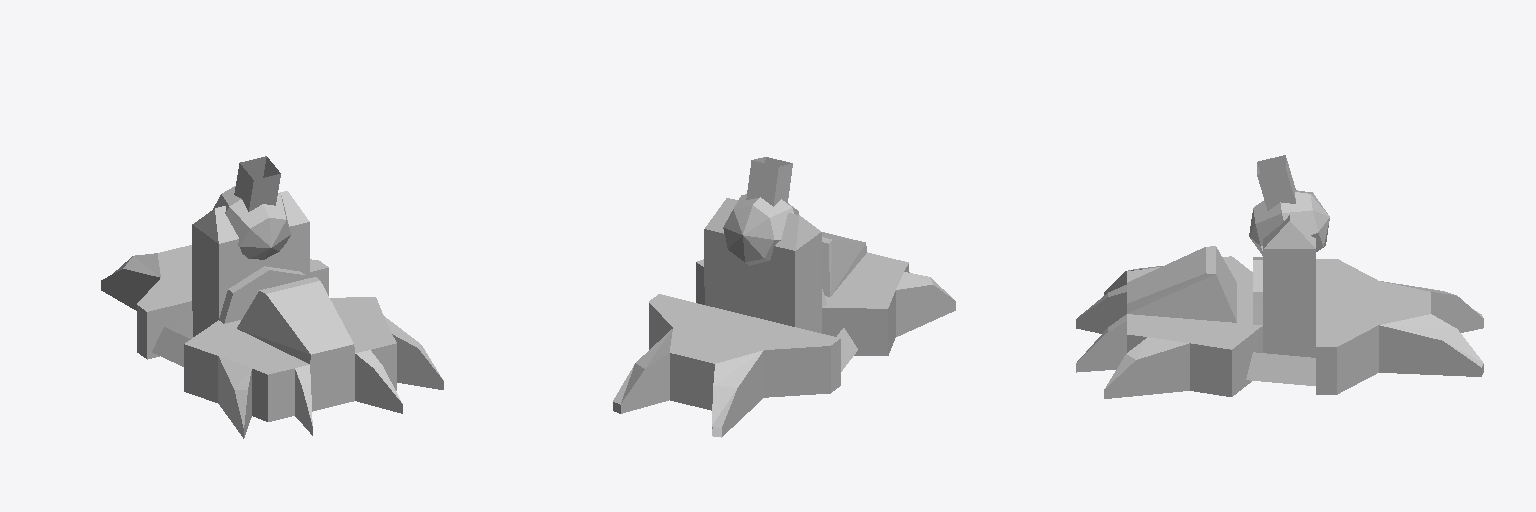
Rendered from jaller_foot.obj.
3 renders of one model, left to right at view 1: azimuth 30°, elevation 25°; view 2: azimuth 150°, elevation 25°; view 3: azimuth 270°, elevation 25°, orthographic.
Visible parts, largest first — view 1: jaller.bh_jaller_reference.smd.mesh_0.007_jaller.bh_jaller_refer; view 2: jaller.bh_jaller_reference.smd.mesh_0.007_jaller.bh_jaller_refer; view 3: jaller.bh_jaller_reference.smd.mesh_0.007_jaller.bh_jaller_refer.
Boxes of the visible parts, x1,y1,x2,y2 form: jaller.bh_jaller_reference.smd.mesh_0.007_jaller.bh_jaller_refer: [101, 156, 443, 438]; jaller.bh_jaller_reference.smd.mesh_0.007_jaller.bh_jaller_refer: [613, 157, 955, 437]; jaller.bh_jaller_reference.smd.mesh_0.007_jaller.bh_jaller_refer: [1076, 155, 1483, 398].
Size of the model in its own units: 11.12 by 10.05 by 19.65.